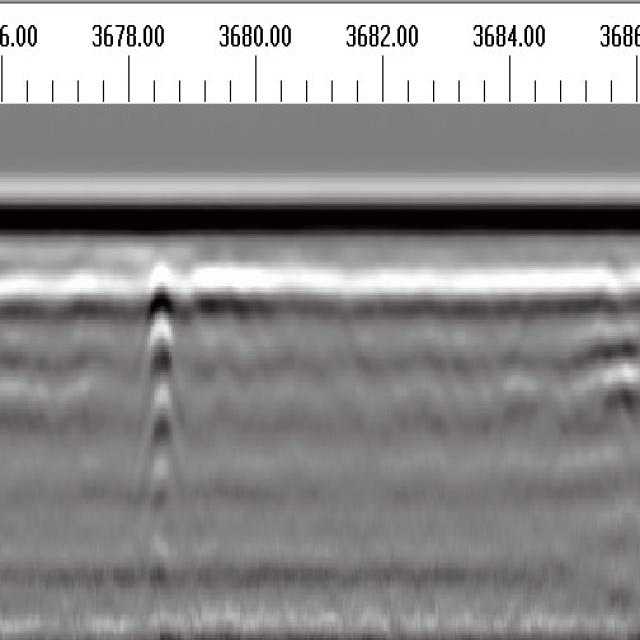crack: (143, 269, 178, 582)
